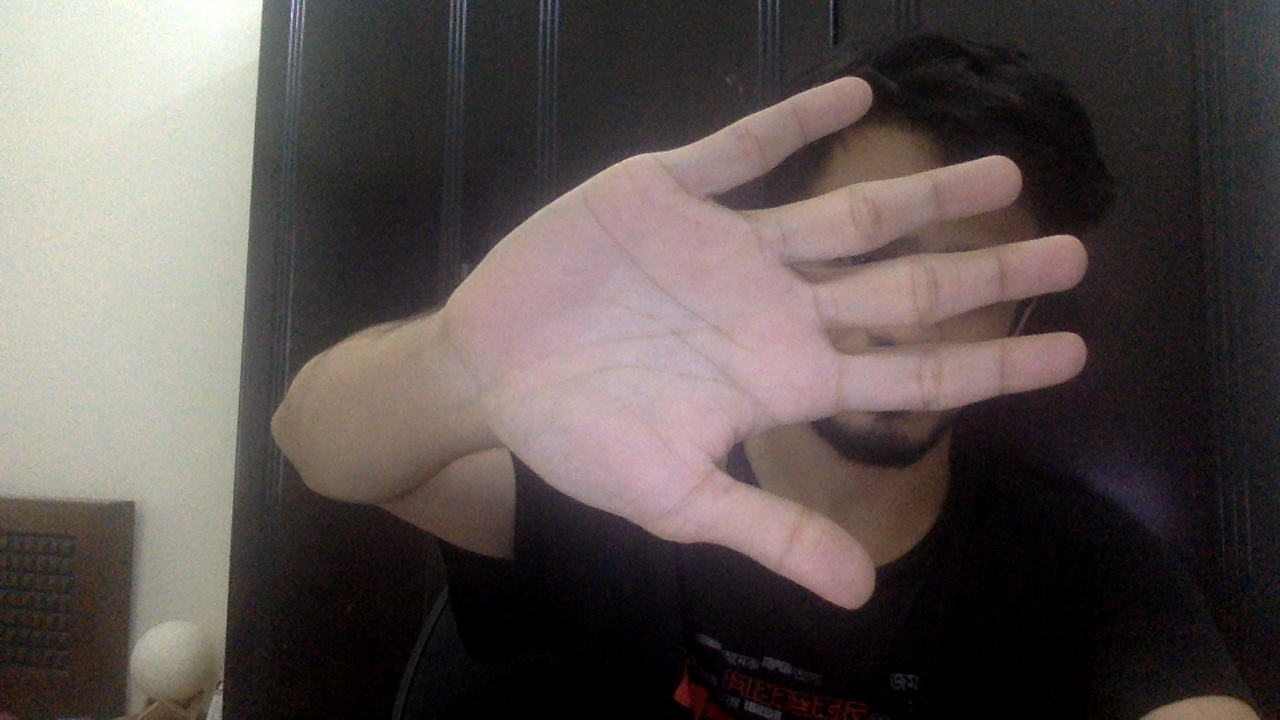stop: (450, 75, 1090, 610)
